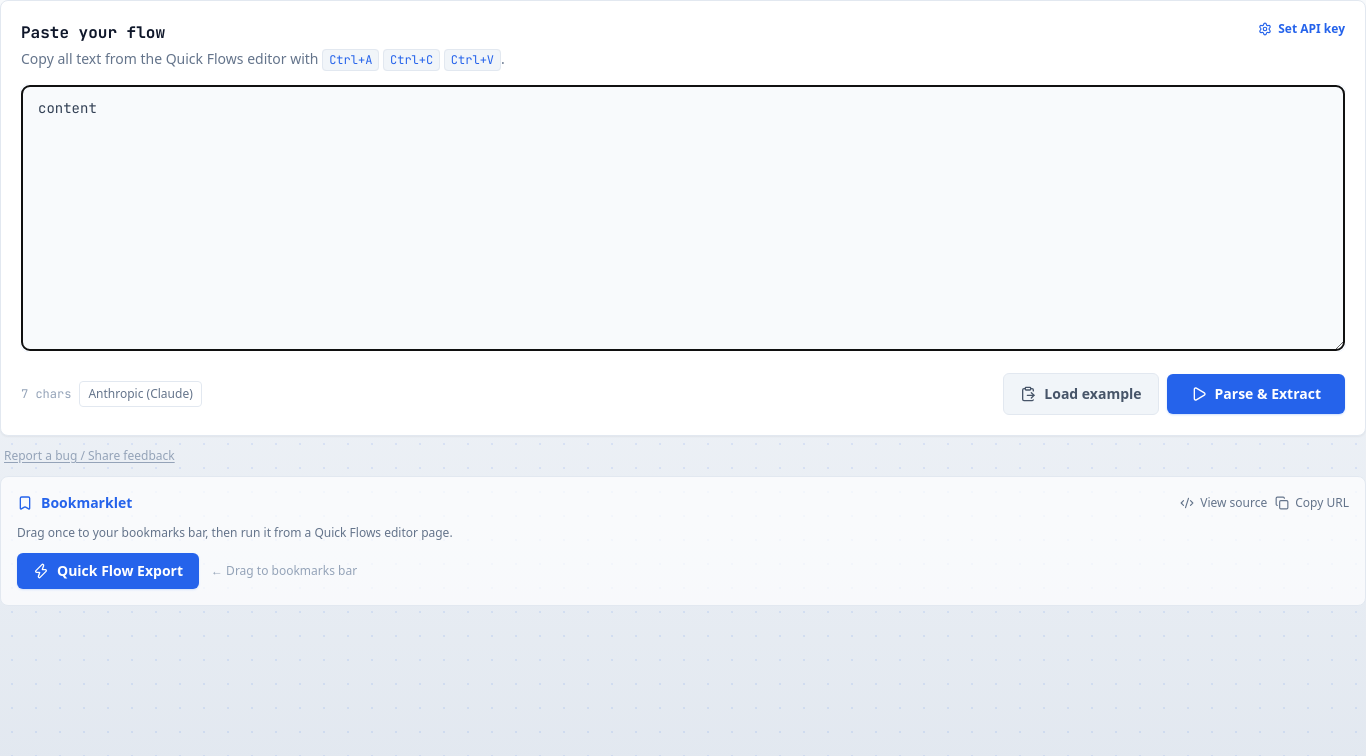
Test: PastePhase › renders all provider options in the provider selector
This screenshot has width=1366, height=756.
Click the button "Parse & Extract" at (1256, 394), box top-left (1167, 374), bottom-right (1345, 414)
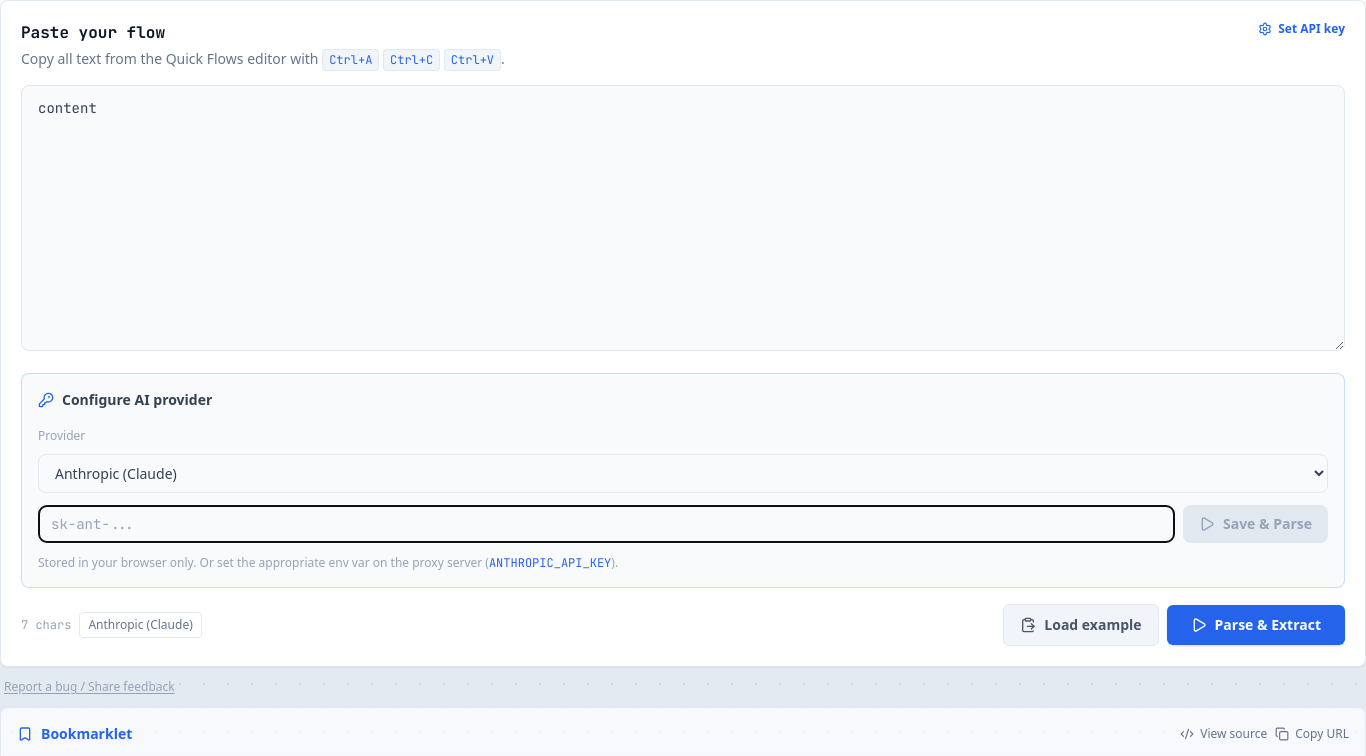
expect the dropdown labelled "Provider" is shown: met, box top-left (38, 454), bottom-right (1328, 493)
